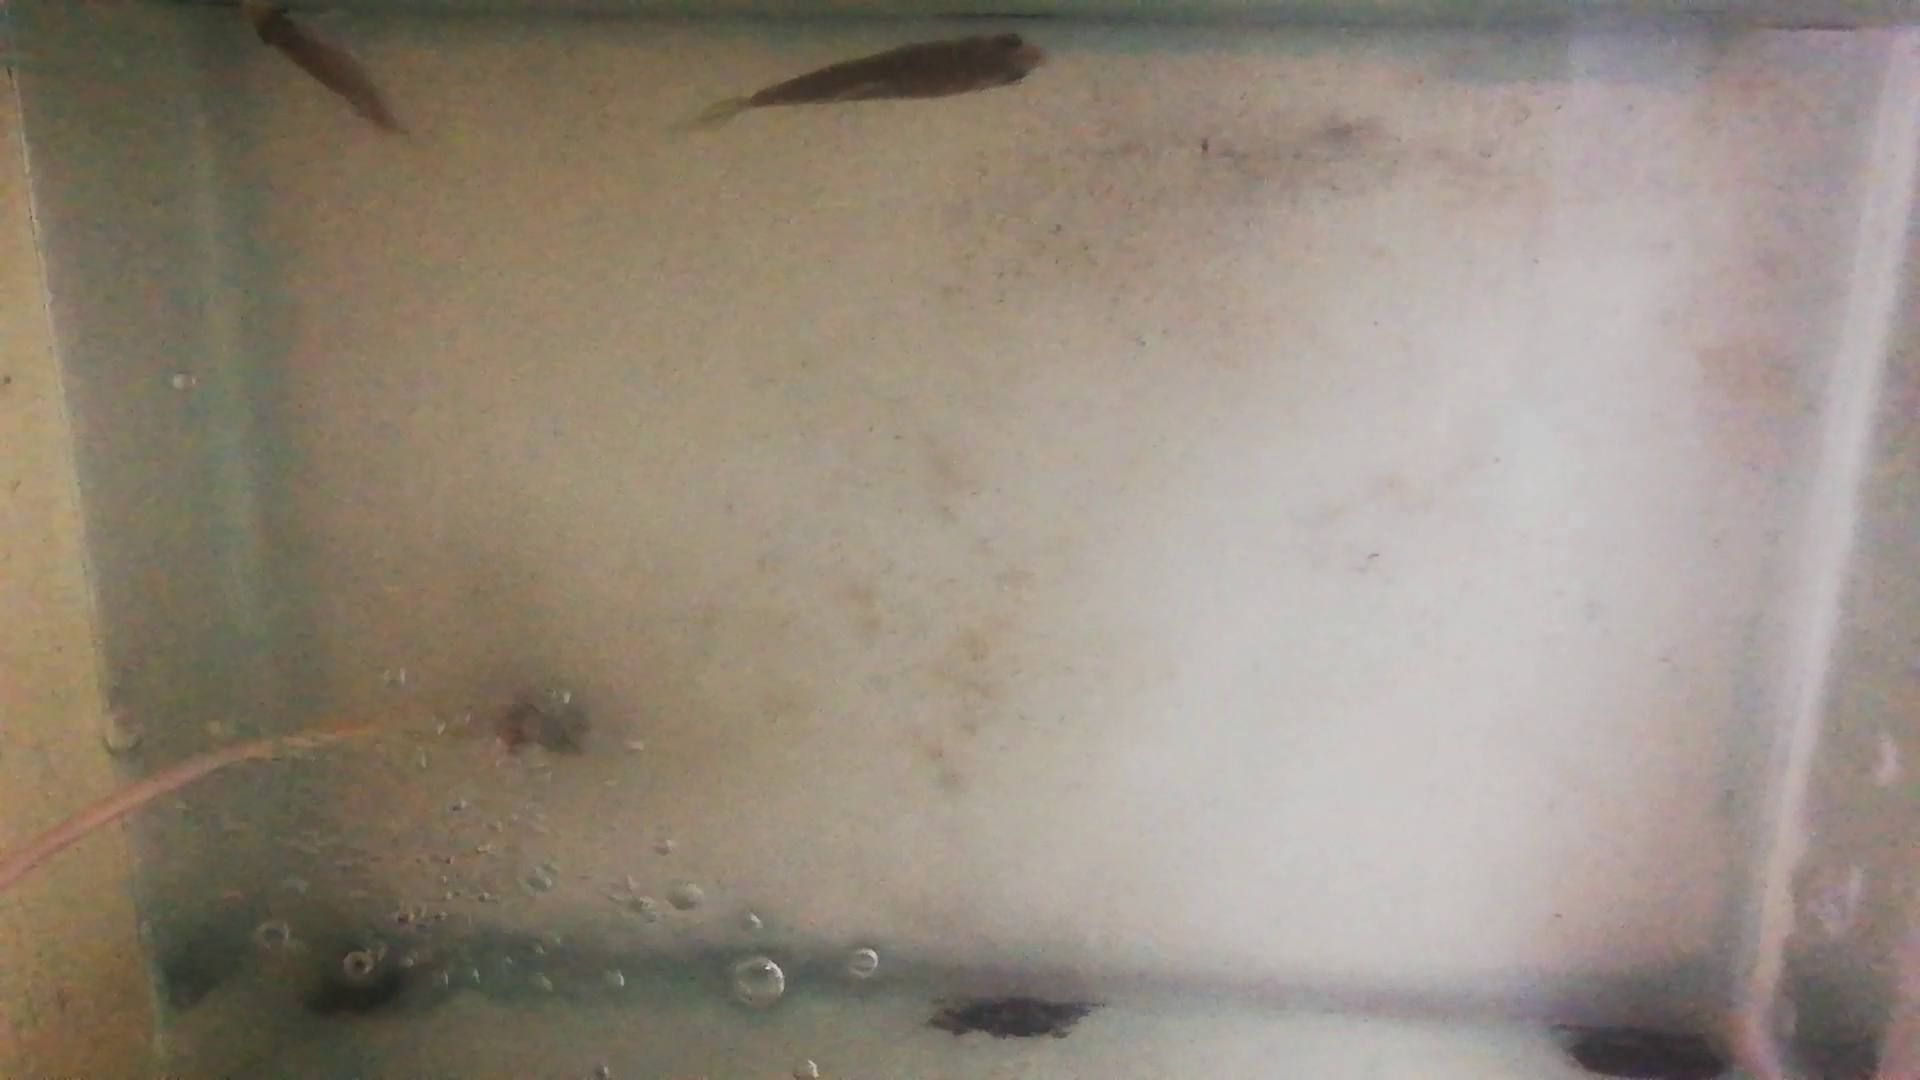fish: (749, 34, 1050, 113), (245, 1, 396, 128)
